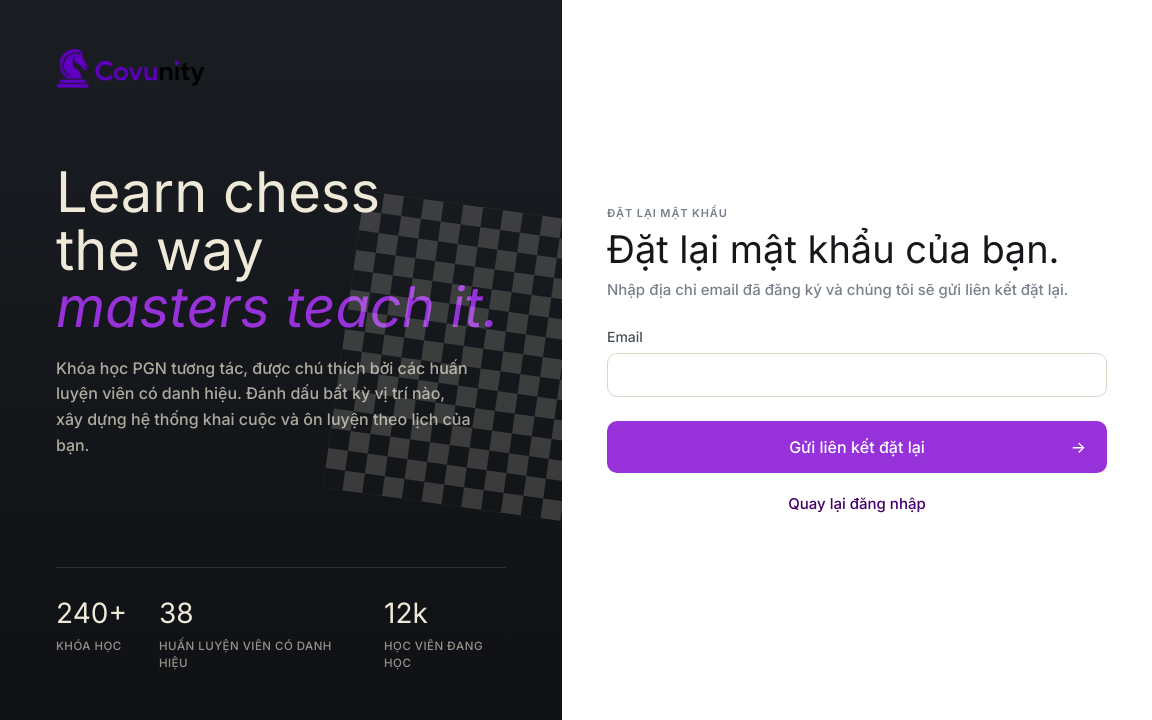
Scenario: ForgotPasswordPage › shows required error for empty email
Click the button "Gửi liên kết đặt lại →" at (857, 447), box left=607, top=421, right=1107, bottom=473
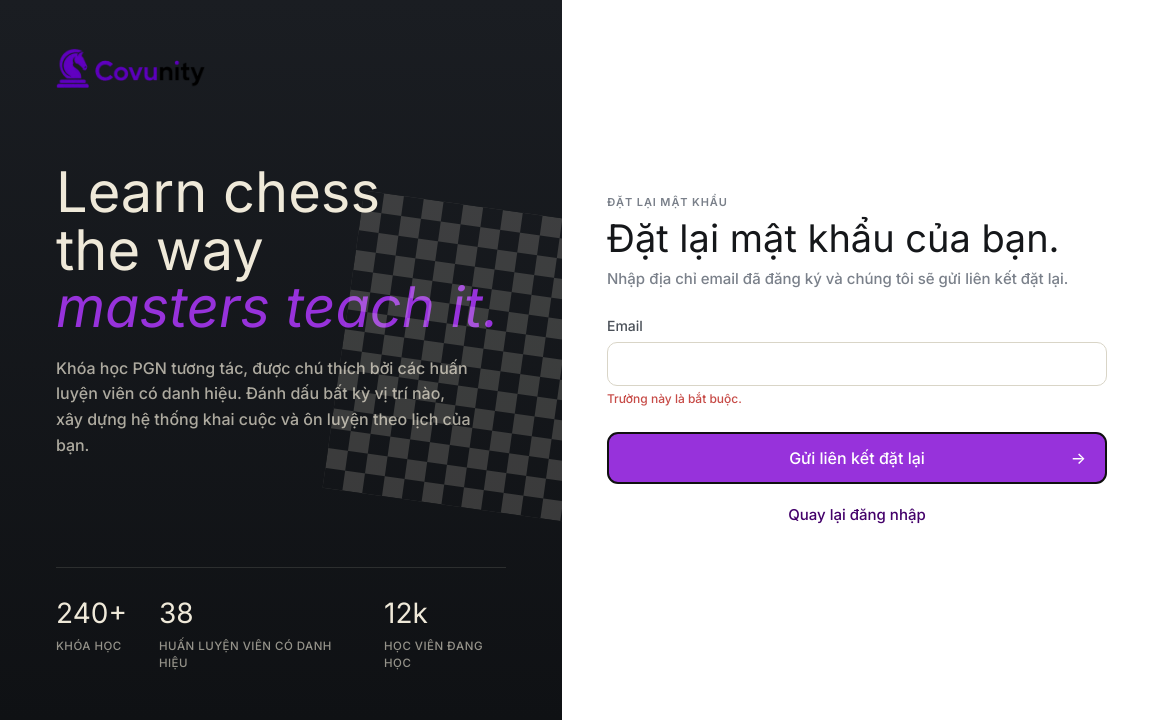
Expected: the text "Trường này là bắt buộc." is shown, left=607, top=391, right=742, bottom=406
